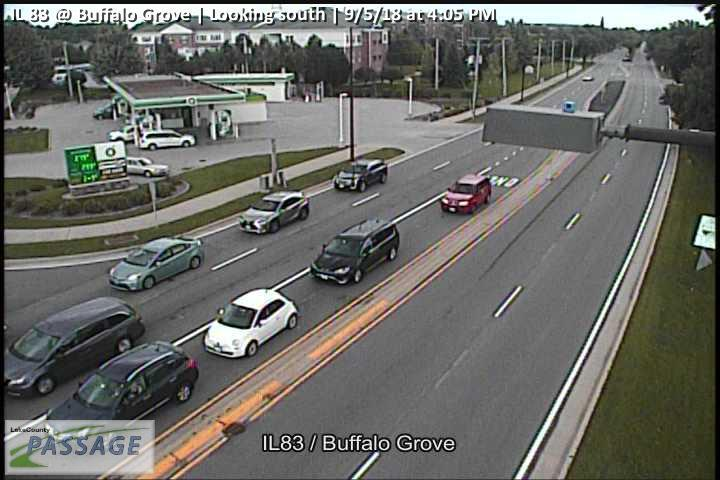SUV: (1, 296, 146, 399), (309, 218, 401, 285), (440, 172, 492, 215), (332, 157, 389, 192), (138, 129, 196, 149)
Sedan: (46, 339, 198, 447), (201, 287, 298, 360), (107, 234, 205, 293), (236, 190, 310, 235)
